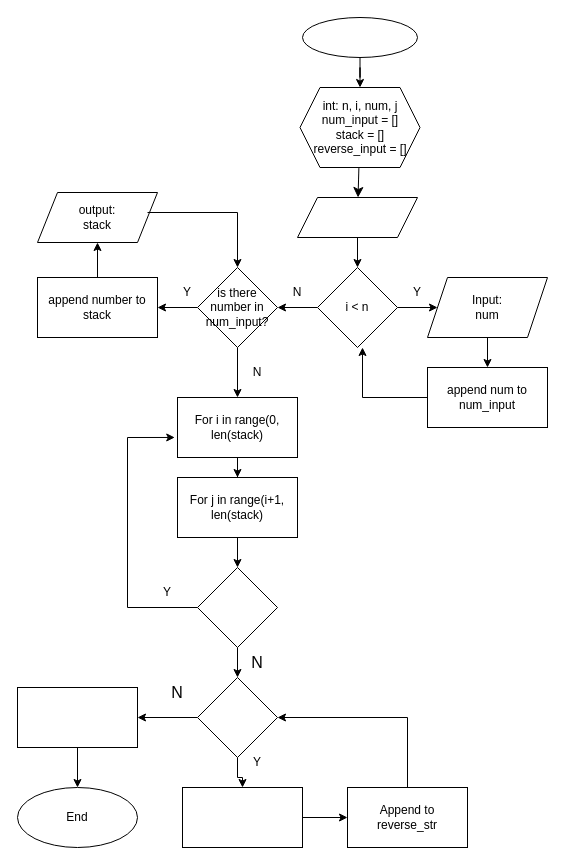
Image size: 565x865. Some labels were removed from this diagram. The centre of each missing label's shape, as x and y in pixels:
"input: n" belongs at (x=357, y=217).
"len(stack) > 0" belongs at (x=237, y=717).
"Pop from stack" belongs at (x=242, y=817).
"Print reverse_input" belongs at (x=77, y=717).
"stack[i] <= stack[j]" belongs at (x=237, y=607).
"Start" belongs at (x=360, y=37).
